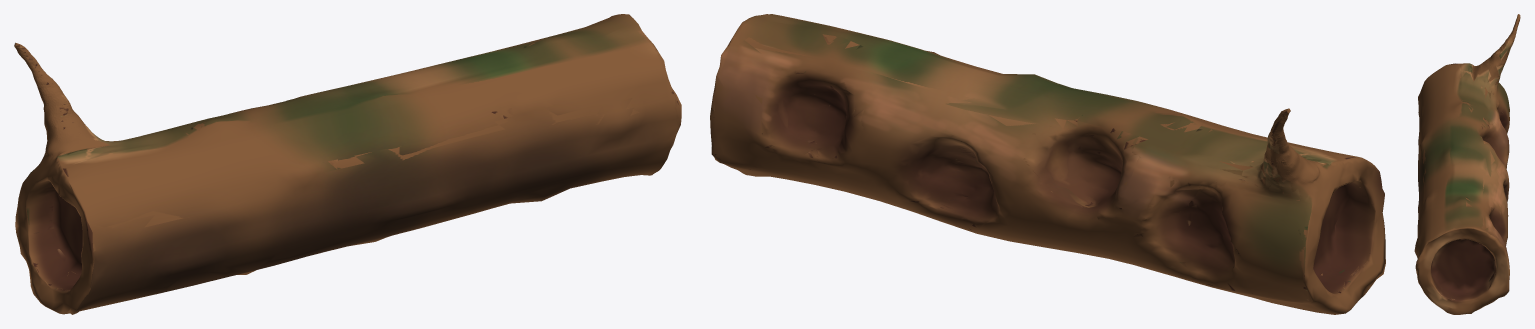
The model's file is Fox_log.fbx.
3 renders of one model, left to right at view 1: azimuth 30°, elevation 25°; view 2: azimuth 150°, elevation 25°; view 3: azimuth 270°, elevation 25°, orthographic. The views are drawn at different scales.
Parts seen in each view (by area): view 1: log; view 2: log; view 3: log.
Part boxes in pixels (x1=…): log: x1=14, y1=14, x2=681, y2=314; log: x1=710, y1=14, x2=1385, y2=314; log: x1=1414, y1=14, x2=1520, y2=314.
Size of the model in its own units: 482 by 126 by 181.
1 material, 1 textured.
